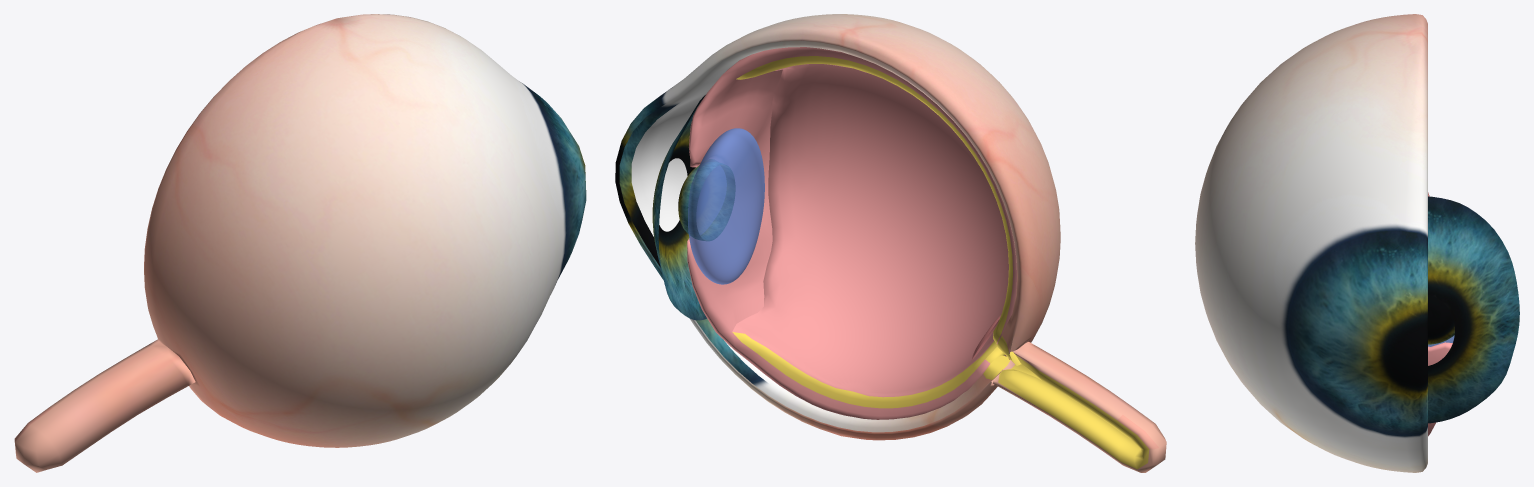
File: eye2.glb
3 renders of one model, left to right at view 1: azimuth 30°, elevation 25°; view 2: azimuth 150°, elevation 25°; view 3: azimuth 270°, elevation 25°, orthographic. The views are drawn at different scales.
Size of the model in its own units: 2.82 by 2 by 1.4.
9 materials, 3 textured.
